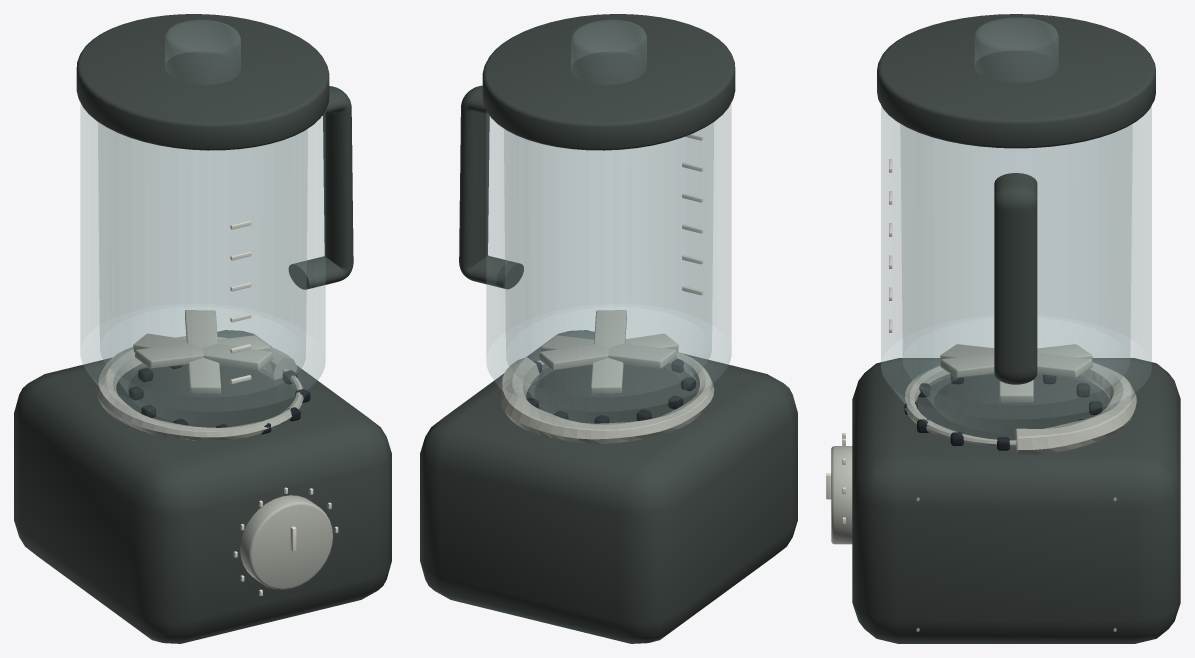
File: countertop-blender.glb
The picture shows the model from 3 angles, left to right: view 1: azimuth 30°, elevation 25°; view 2: azimuth 150°, elevation 25°; view 3: azimuth 270°, elevation 25°; orthographic projection. The views are drawn at different scales.
Visible parts, largest first — view 1: catalog_surface_RealismUV, catalog_surface_UVMap; view 2: catalog_surface_RealismUV, catalog_surface_UVMap; view 3: catalog_surface_RealismUV, catalog_surface_UVMap.
Part boxes in pixels (box(x1,y1,x2,y2)): catalog_surface_RealismUV: box(14, 14, 391, 643); catalog_surface_UVMap: box(80, 20, 338, 596); catalog_surface_RealismUV: box(420, 14, 797, 643); catalog_surface_UVMap: box(486, 20, 731, 428); catalog_surface_RealismUV: box(831, 14, 1180, 643); catalog_surface_UVMap: box(826, 17, 1151, 523).
Bounding box in the file's own units: 0.22 × 0.42 × 0.24.
